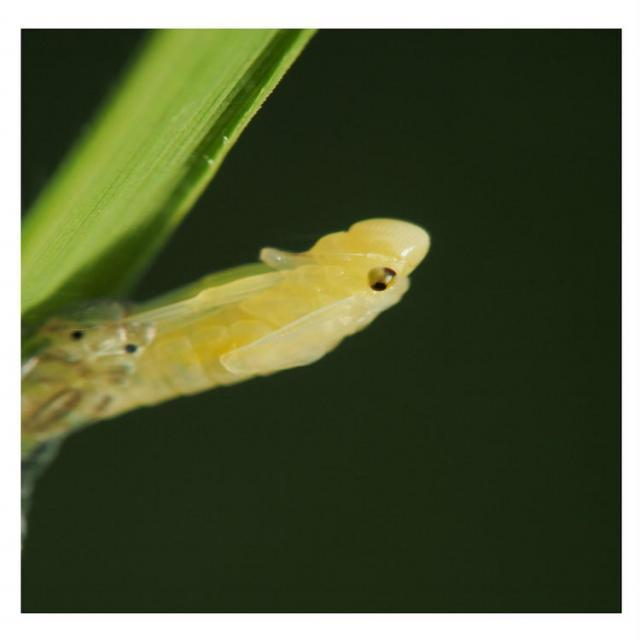green leaf hopper: (22, 219, 427, 459)
